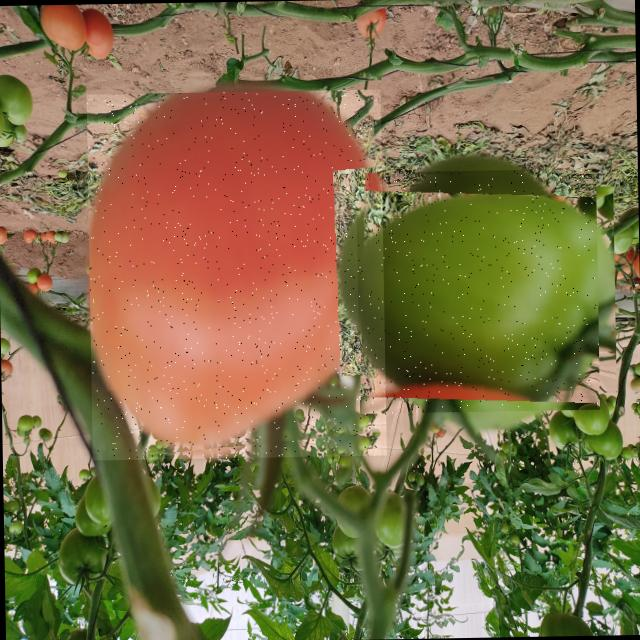Ripe Tomato: (86, 89, 386, 460)
Unripe Tomato: (356, 168, 600, 413)
